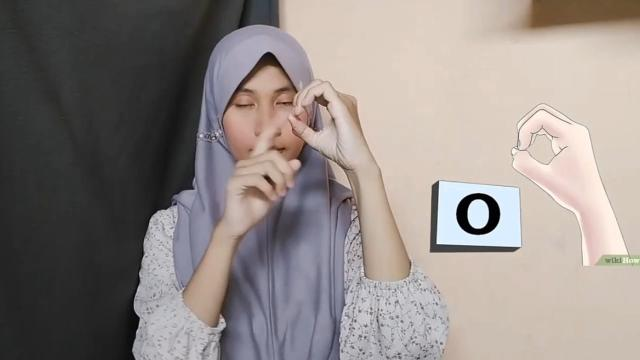O: (285, 78, 375, 172)
